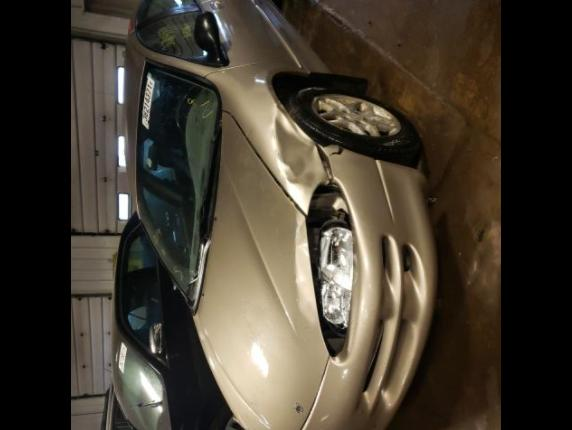Broken part: (306, 181, 354, 356), (316, 143, 345, 179)
Dent: (275, 109, 326, 187), (278, 101, 288, 112)
